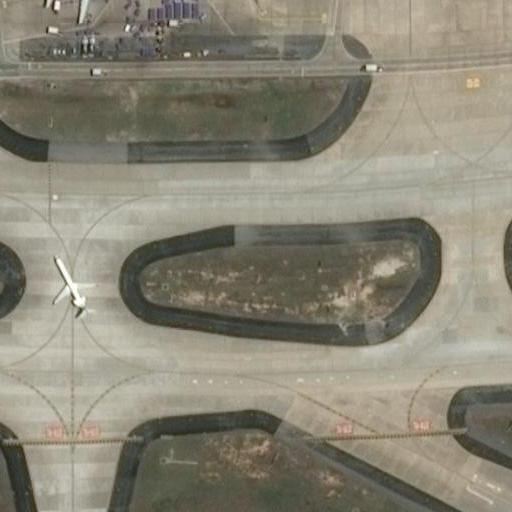Aircraft: (37, 247, 103, 327), (23, 0, 118, 30)
